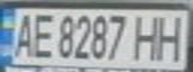2: (72, 11, 93, 61)
7: (106, 11, 133, 61)
8: (90, 11, 112, 61), (54, 10, 75, 60)
A: (6, 9, 39, 60)
E: (27, 9, 57, 60)
H: (151, 11, 190, 62), (130, 11, 166, 62)
